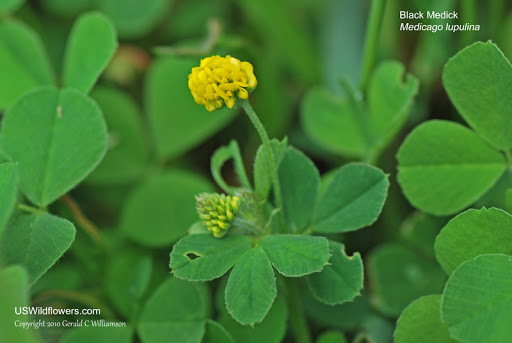clover: (274, 141, 391, 307), (167, 229, 333, 329)
clover blossom white: (185, 54, 259, 115)
